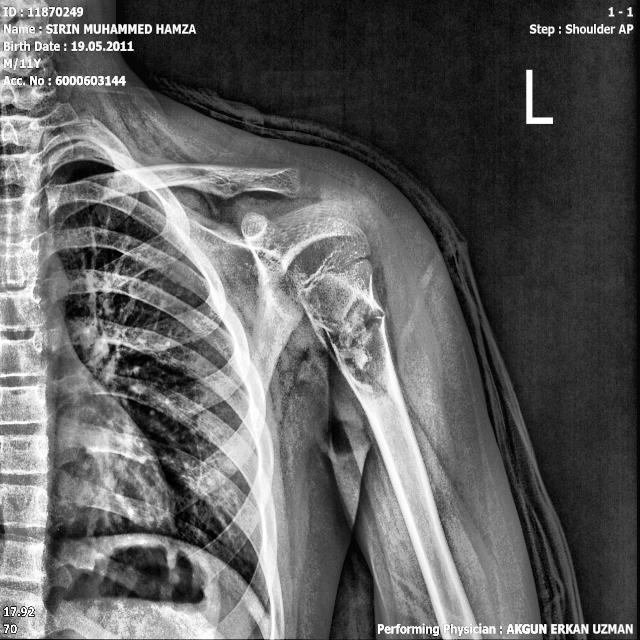Fracture: (302, 280, 412, 382)
